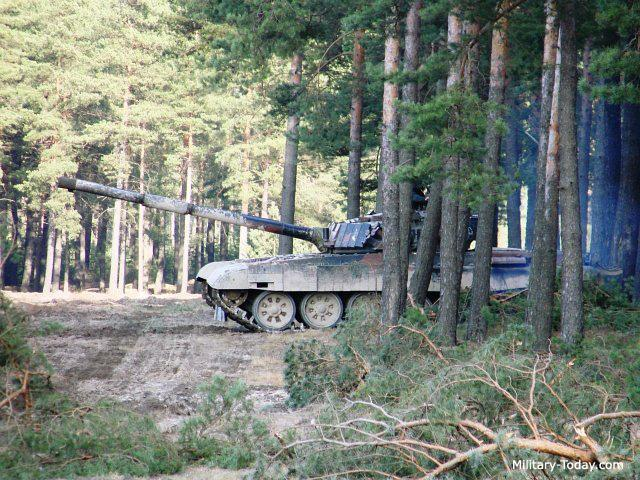tank: (56, 175, 623, 333)
